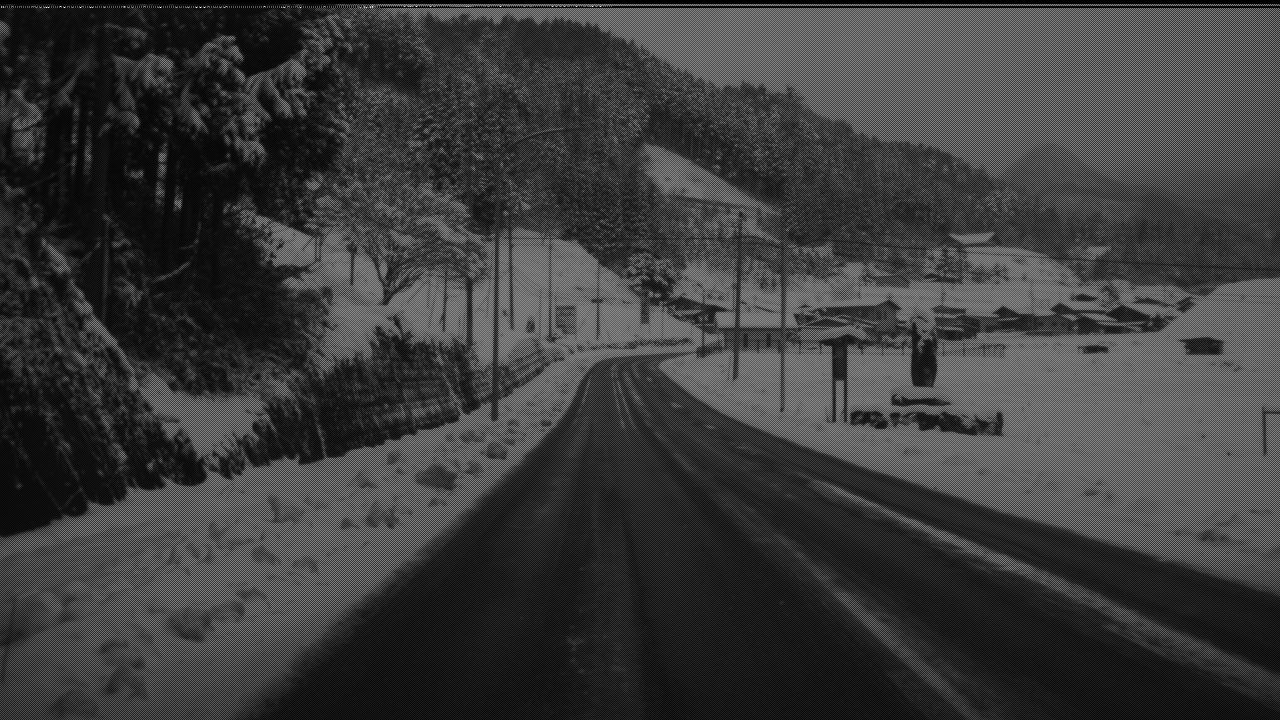pole: (491, 152, 502, 414), (732, 211, 742, 373), (778, 222, 786, 402)
